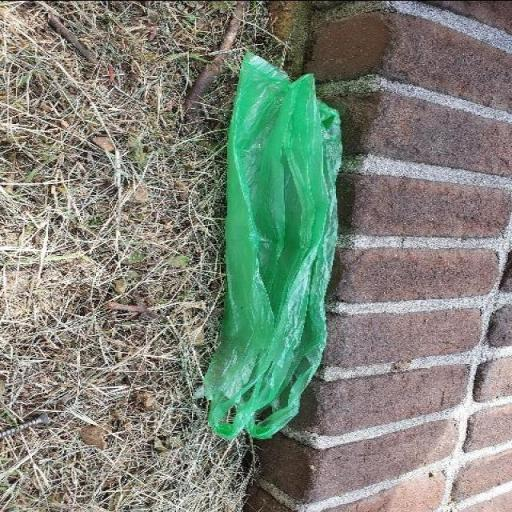plastic-bag: (200, 49, 347, 444)
